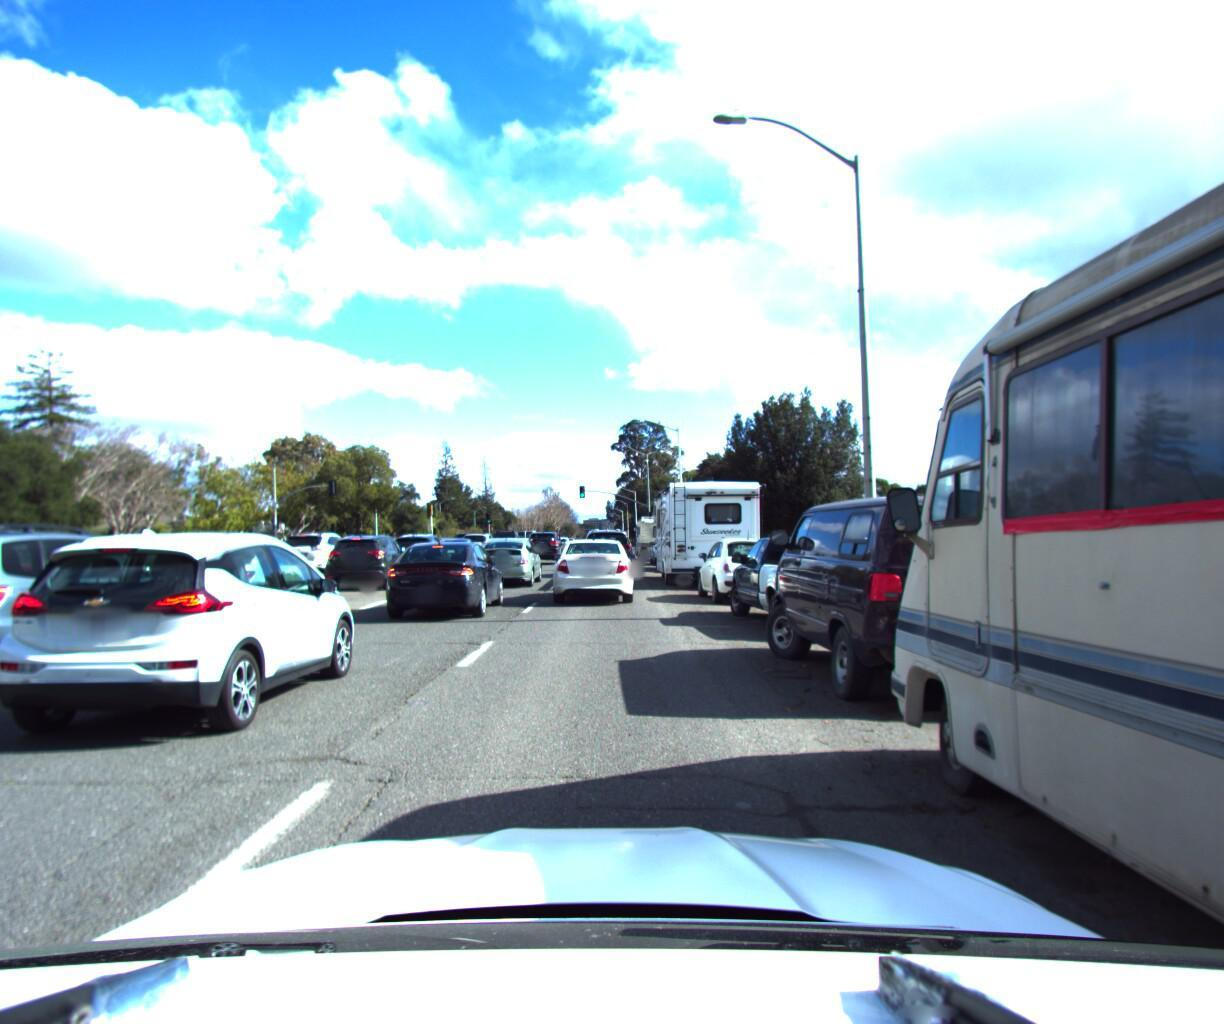car: (768, 481, 1122, 725), (726, 531, 912, 642), (382, 529, 511, 625), (158, 531, 305, 602), (551, 523, 641, 609), (692, 535, 794, 608), (321, 534, 418, 596), (276, 529, 367, 583), (476, 538, 546, 591), (387, 537, 461, 583), (586, 526, 637, 578), (529, 532, 569, 568), (458, 535, 505, 566)
other_vehicle: (650, 475, 776, 591), (635, 513, 684, 562)
